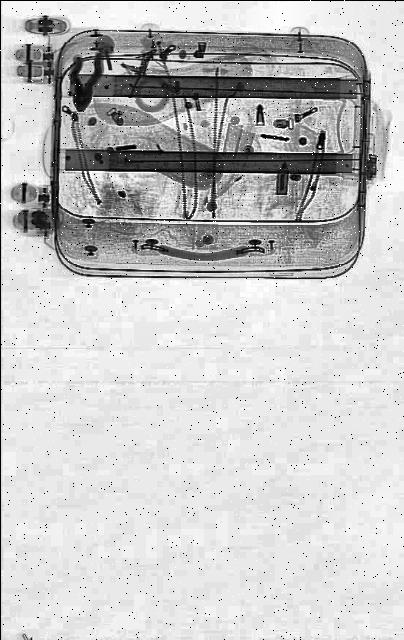Pliers: (64, 47, 104, 117)
